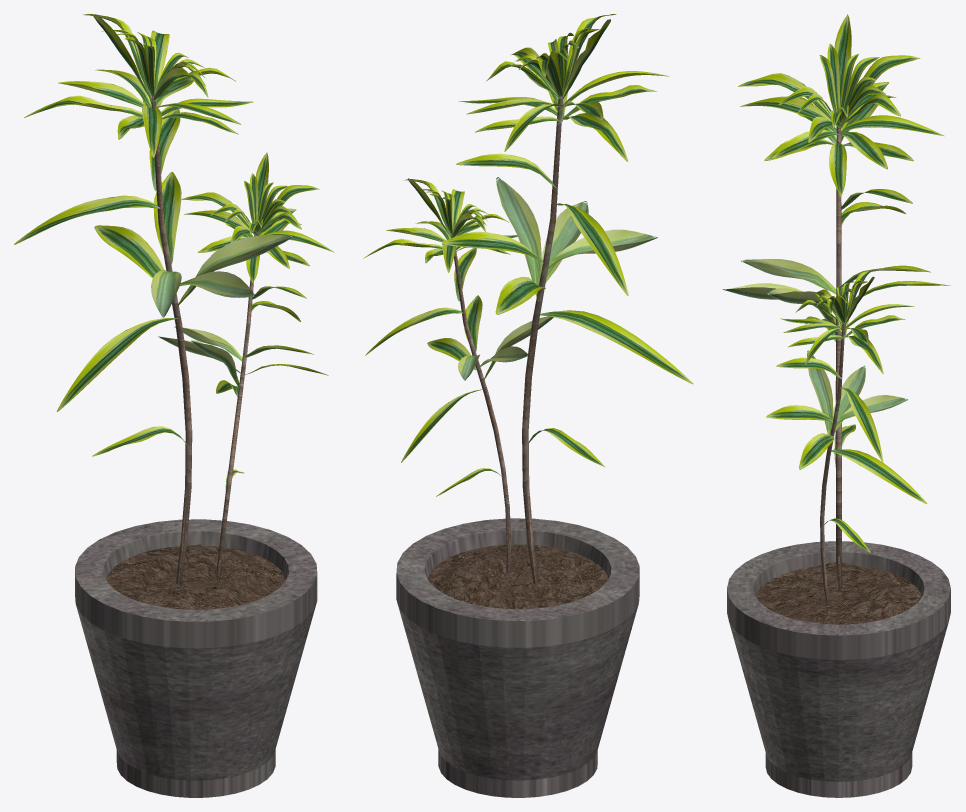
The model's file is Dracaena Reflexa High.fbx.
3 renders of one model, left to right at view 1: azimuth 30°, elevation 25°; view 2: azimuth 150°, elevation 25°; view 3: azimuth 270°, elevation 25°, orthographic. The views are drawn at different scales.
Parts seen in each view (by area): view 1: Cylinder, dracaena reflexa, Plane; view 2: Cylinder, dracaena reflexa, Plane; view 3: Cylinder, dracaena reflexa, Plane.
Part boxes in pixels (box(x1,y1,x2,y2)): Cylinder: box(75, 519, 317, 797); dracaena reflexa: box(14, 14, 334, 584); Plane: box(106, 544, 286, 609); Cylinder: box(396, 518, 639, 797); dracaena reflexa: box(363, 14, 693, 583); Plane: box(427, 544, 608, 609); Cylinder: box(727, 541, 950, 797); dracaena reflexa: box(722, 14, 950, 605); Plane: box(756, 562, 921, 624).
Bounding box in the file's own units: 49.84 × 128 × 37.48.
Materials: 6 (6 with a texture image).
